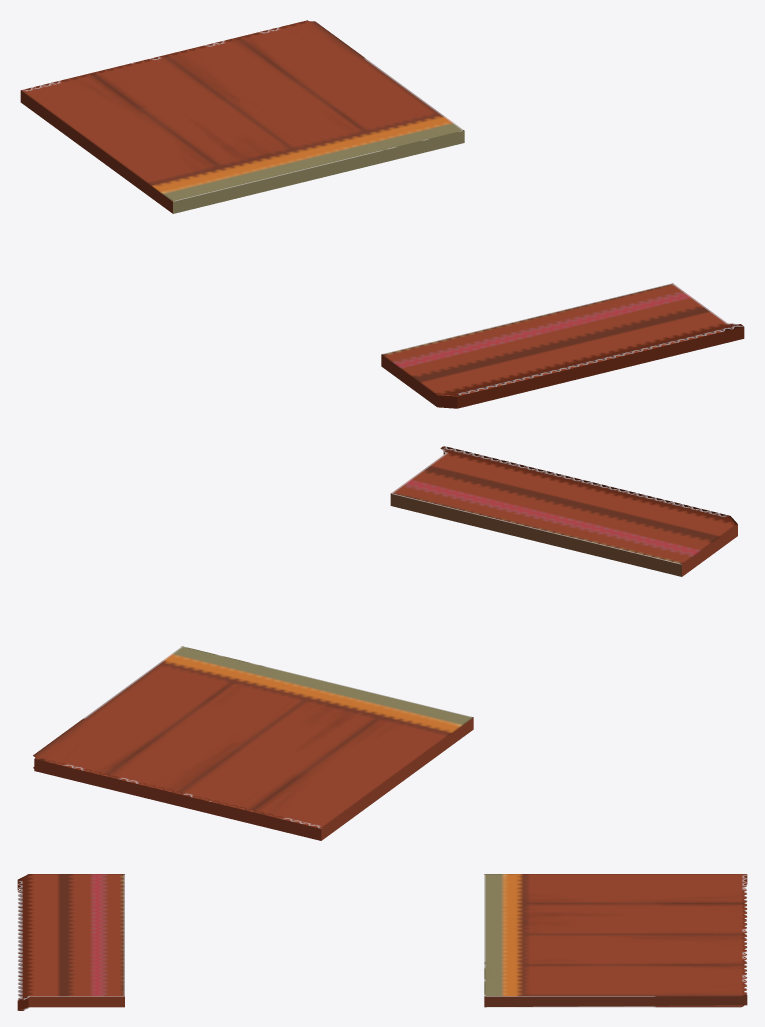
File: pz_native_location_restaurant_spiffos_01_68_frame.obj
3 views of the same model, one above another, from view 1: azimuth 30°, elevation 25°; view 2: azimuth 150°, elevation 25°; view 3: azimuth 270°, elevation 25° (orthographic). The views are drawn at different scales.
Parts seen in each view (by area): view 1: pz_native_location_restaurant_spiffos_01_68_frame; view 2: pz_native_location_restaurant_spiffos_01_68_frame; view 3: pz_native_location_restaurant_spiffos_01_68_frame.
Part boxes in pixels (x1,y1,x2,y2): pz_native_location_restaurant_spiffos_01_68_frame: [20, 20, 744, 408]; pz_native_location_restaurant_spiffos_01_68_frame: [33, 446, 737, 840]; pz_native_location_restaurant_spiffos_01_68_frame: [17, 874, 747, 1010].
Bounding box in the file's own units: 1.06 × 0.04 × 2.54.
1 material, 1 textured.
